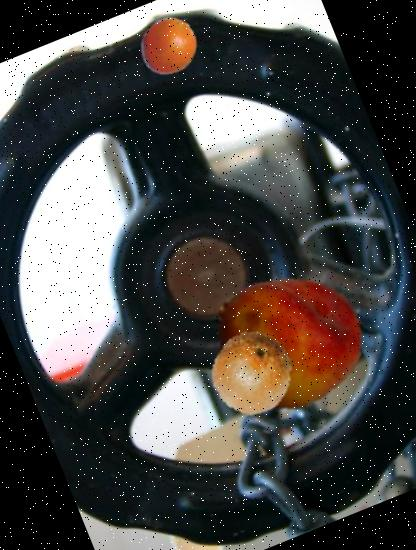Kiwi: (196, 316, 308, 428)
Peach: (190, 244, 382, 437)
Tangelo: (129, 6, 207, 84)
